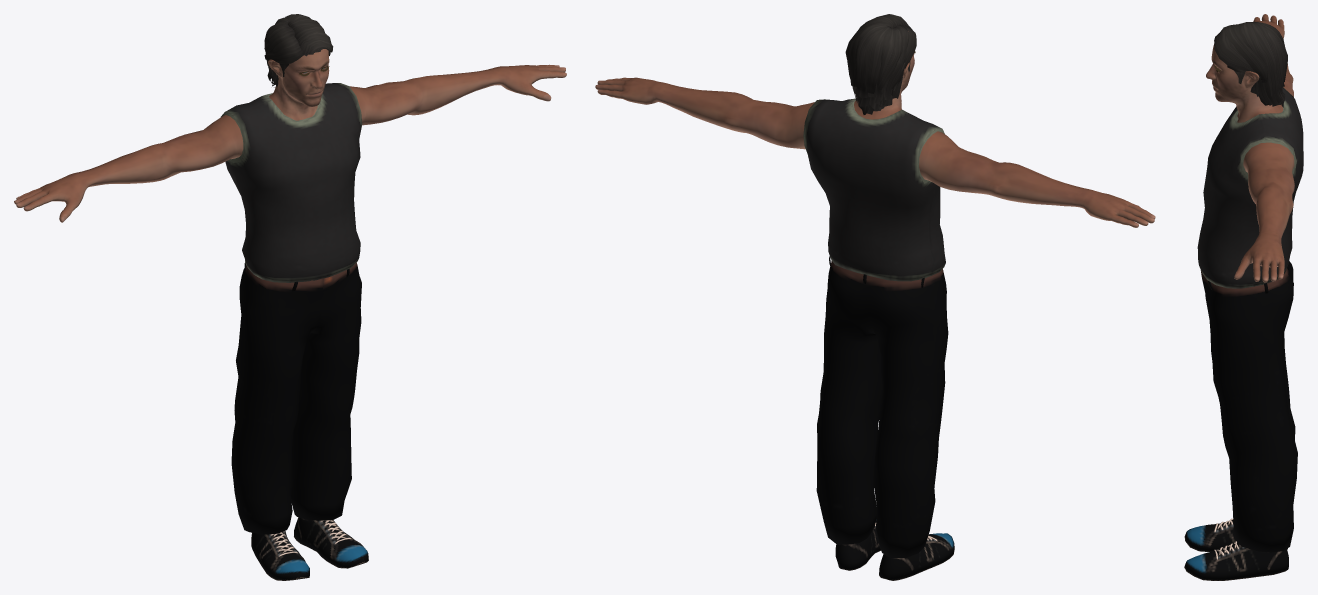
Rendered from Male1C2.obj.
3 views of the same model, side by side, from view 1: azimuth 30°, elevation 25°; view 2: azimuth 150°, elevation 25°; view 3: azimuth 270°, elevation 25° (orthographic).
Visible parts, largest first — view 1: Bottoms, Tops, Body, Shoes, Hair; view 2: Bottoms, Tops, Body, Hair, Shoes; view 3: Bottoms, Tops, Body, Hair, Shoes.
Boxes of the visible parts, bbox=[...] form: Bottoms: bbox=[231, 262, 361, 534]; Tops: bbox=[221, 83, 362, 282]; Body: bbox=[14, 49, 566, 222]; Shoes: bbox=[251, 517, 368, 580]; Hair: bbox=[264, 14, 333, 87]; Bottoms: bbox=[816, 256, 948, 557]; Tops: bbox=[803, 98, 945, 281]; Body: bbox=[595, 31, 1155, 227]; Hair: bbox=[845, 14, 916, 114]; Shoes: bbox=[835, 520, 954, 580]; Bottoms: bbox=[1200, 261, 1297, 552]; Tops: bbox=[1197, 87, 1303, 288]; Body: bbox=[1206, 14, 1294, 282]; Hair: bbox=[1214, 21, 1287, 107]; Shoes: bbox=[1184, 518, 1288, 580].
Size of the model in its own units: 1.94 by 1.81 by 0.3654.
1 material, 1 textured.
